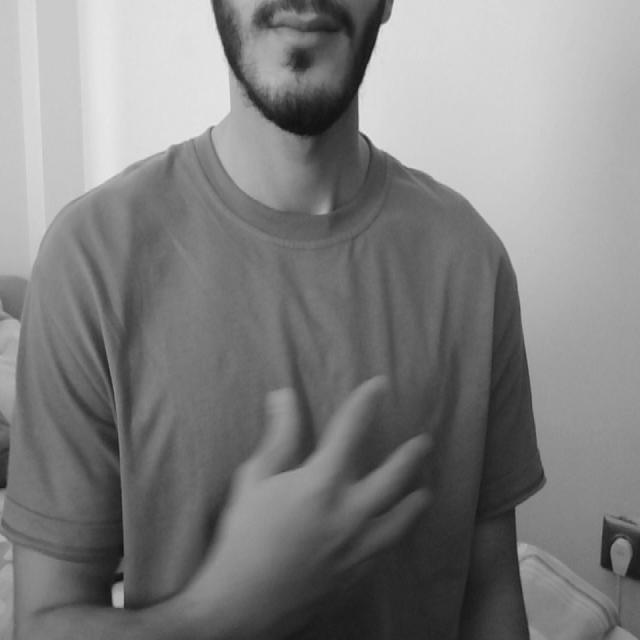Anne: (81, 339, 528, 619)
